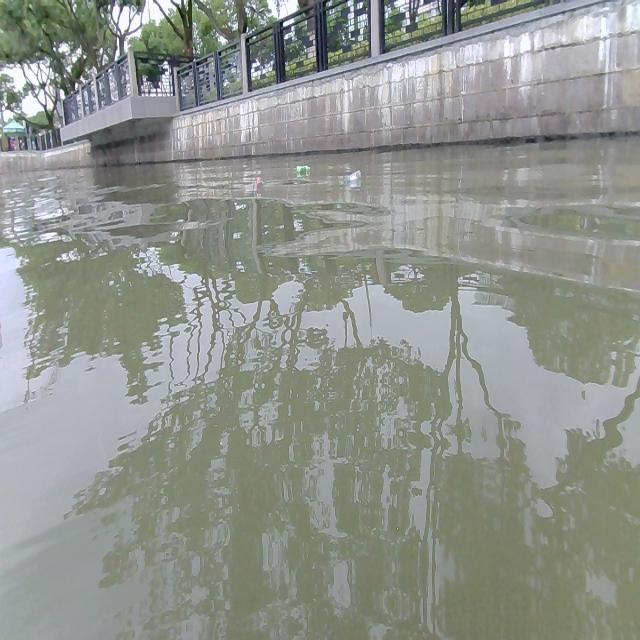bottle: (295, 164, 312, 175), (346, 170, 360, 182), (254, 175, 262, 189)
